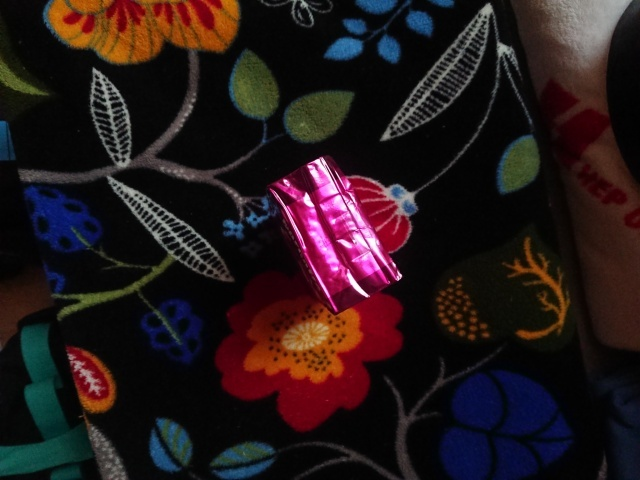Barcaffe Classic Original 225g: (264, 150, 406, 317)
